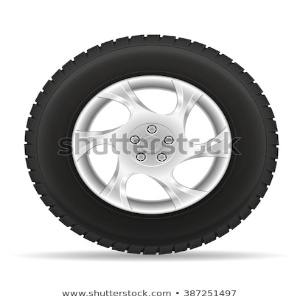tire: (25, 33, 280, 255)
